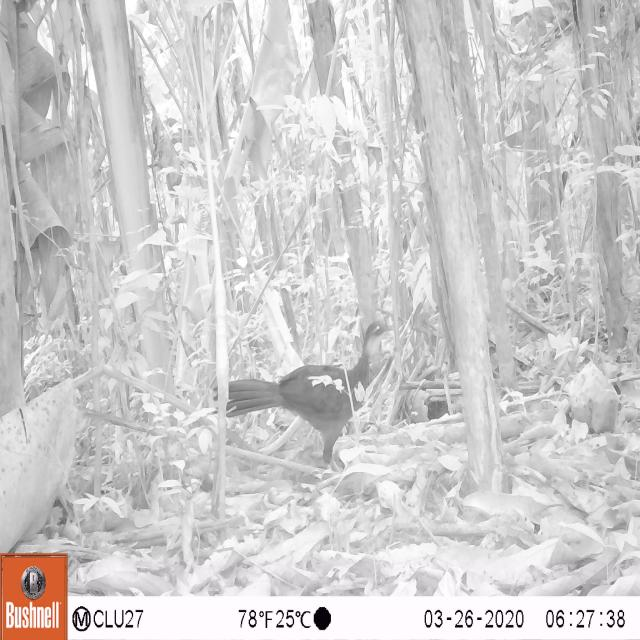Spixs Guan: (202, 317, 400, 481)
